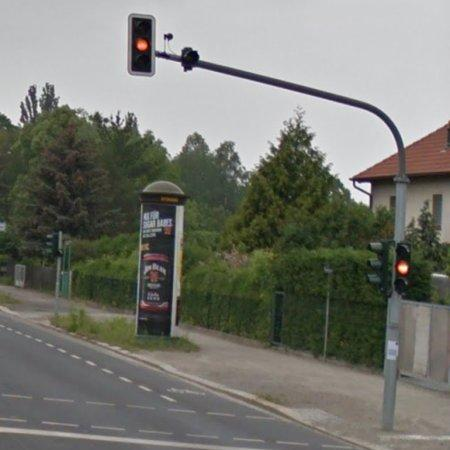traffic lights: (126, 15, 158, 77), (364, 238, 392, 290), (394, 242, 412, 296)
